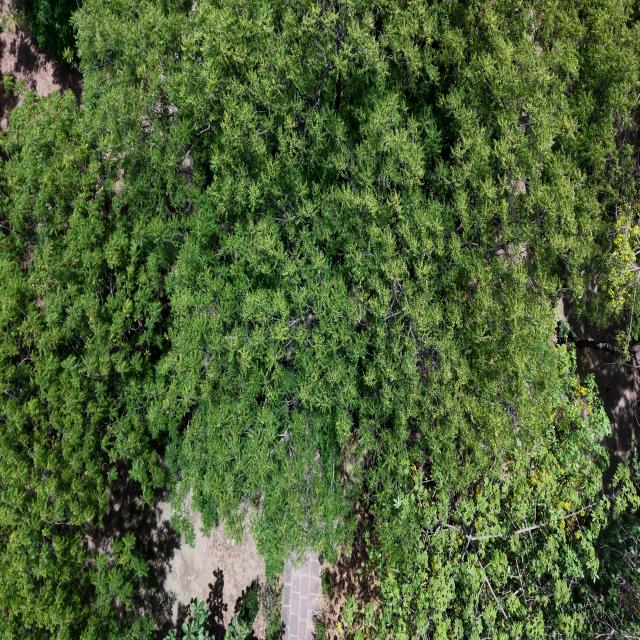DRY_AREA: (89, 466, 265, 639), (90, 468, 265, 639), (89, 469, 265, 639), (90, 471, 265, 639), (90, 472, 265, 639), (92, 473, 265, 639), (91, 476, 265, 639), (102, 487, 265, 639), (88, 462, 183, 639), (557, 298, 639, 482), (557, 298, 639, 481), (557, 299, 639, 478), (165, 515, 265, 639), (282, 520, 377, 639), (0, 0, 82, 129), (574, 316, 639, 472), (311, 499, 379, 639), (321, 501, 379, 639), (0, 26, 81, 98), (282, 552, 321, 639)
PATHWAYS: (282, 552, 321, 639)
VEGETATION_TREE: (0, 0, 639, 636), (143, 2, 637, 569), (342, 344, 639, 639), (0, 91, 153, 637), (342, 453, 639, 639), (342, 465, 639, 639), (17, 0, 80, 59), (165, 598, 215, 639), (260, 583, 281, 639), (238, 584, 259, 628)
